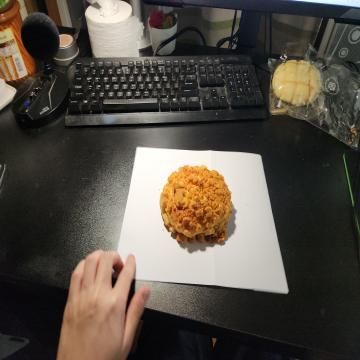soboru_bread: (158, 165, 233, 249)
